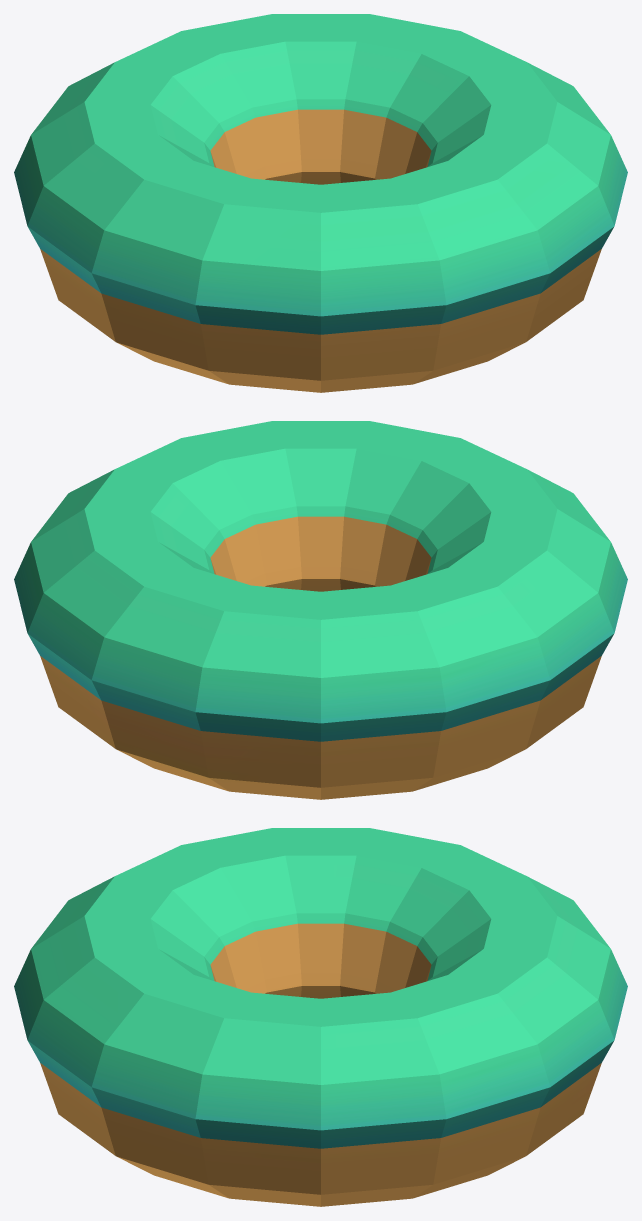
The model's file is quaternius-junk-food-donut-2.glb.
The picture shows the model from 3 angles, top to bottom: view 1: azimuth 30°, elevation 25°; view 2: azimuth 150°, elevation 25°; view 3: azimuth 270°, elevation 25°; orthographic projection.
Visible parts, largest first — view 1: Donut2; view 2: Donut2; view 3: Donut2.
Part boxes in pixels (x1,y1,x2,y2): Donut2: [14, 14, 627, 392]; Donut2: [14, 421, 627, 799]; Donut2: [14, 828, 627, 1206].
Size of the model in its own units: 0.5992 by 0.2007 by 0.6025.
1 material, 1 textured.
